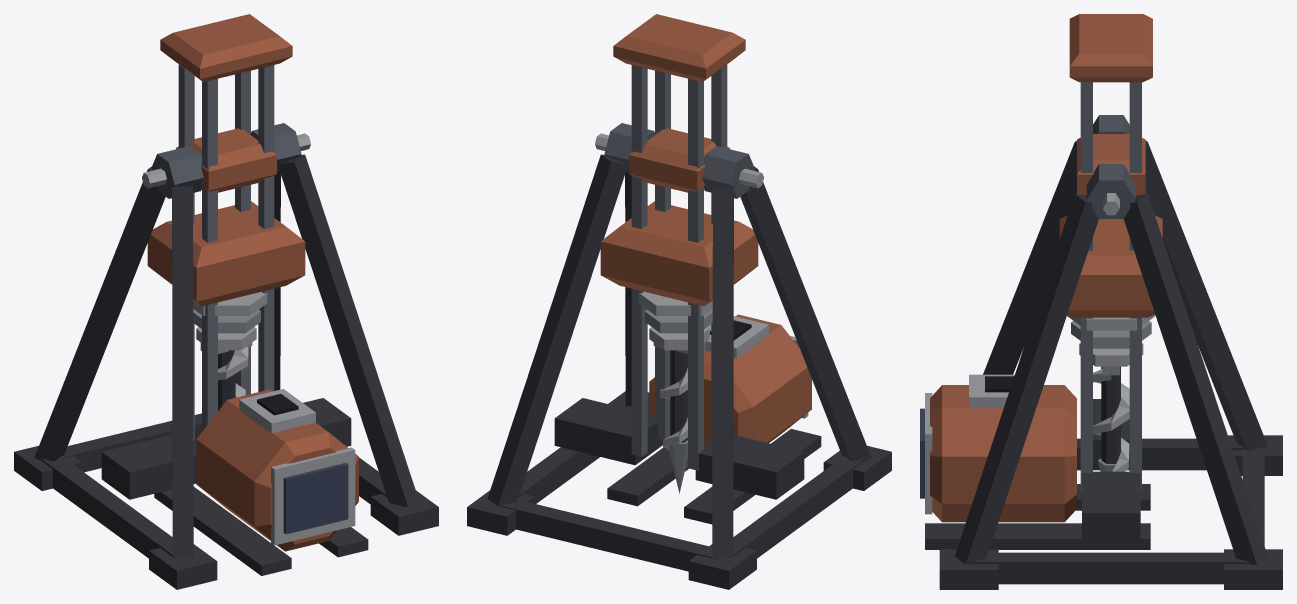
File: core-drill-rig-3b355e.glb
The picture shows the model from 3 angles, left to right: view 1: azimuth 30°, elevation 25°; view 2: azimuth 150°, elevation 25°; view 3: azimuth 270°, elevation 25°; orthographic projection. The views are drawn at different scales.
Parts seen in each view (by area): view 1: frame, motor, drill-carriage, drill-auger; view 2: frame, motor, drill-carriage, drill-auger; view 3: frame, motor, drill-carriage, drill-auger.
Boxes of the visible parts, x1=… form: frame: x1=14, y1=14, x2=438, y2=589; motor: x1=154, y1=389, x2=368, y2=575; drill-carriage: x1=147, y1=201, x2=305, y2=350; drill-auger: x1=200, y1=343, x2=252, y2=410; frame: x1=467, y1=14, x2=891, y2=589; motor: x1=607, y1=314, x2=821, y2=524; drill-carriage: x1=600, y1=201, x2=758, y2=350; drill-auger: x1=653, y1=343, x2=705, y2=493; frame: x1=939, y1=14, x2=1282, y2=589; motor: x1=920, y1=374, x2=1150, y2=549; drill-carriage: x1=1059, y1=215, x2=1162, y2=366; drill-auger: x1=1093, y1=366, x2=1129, y2=471.
Bounding box in the file's own units: 1.3 × 2.2 × 1.48.
